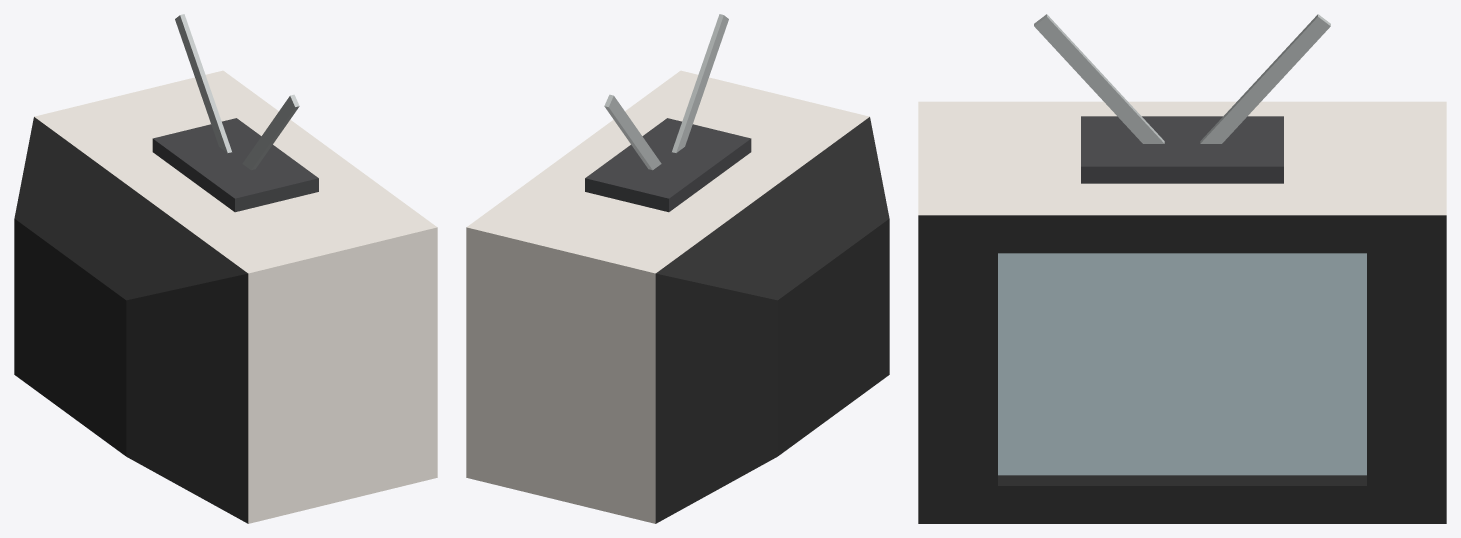
The picture shows the model from 3 angles, left to right: view 1: azimuth 30°, elevation 25°; view 2: azimuth 150°, elevation 25°; view 3: azimuth 270°, elevation 25°; orthographic projection. The views are drawn at different scales.
Visible parts, largest first — view 1: Main_portion, Right_antenna, Left_antenna; view 2: Main_portion, Left_antenna, Right_antenna; view 3: Main_portion, Right_antenna, Left_antenna.
Boxes of the visible parts, x1,y1,x2,y2 form: Main_portion: (14, 70, 437, 523); Right_antenna: (175, 14, 231, 152); Left_antenna: (242, 94, 299, 170); Main_portion: (466, 70, 889, 523); Left_antenna: (672, 14, 728, 152); Right_antenna: (604, 94, 661, 170); Main_portion: (918, 101, 1446, 523); Right_antenna: (1200, 14, 1330, 143); Left_antenna: (1034, 14, 1164, 143).
Bounding box in the file's own units: 0.578 × 0.7801 × 0.8249.
